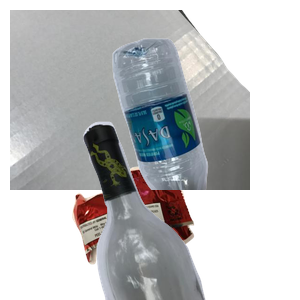cardboard: (10, 10, 250, 190)
glass: (81, 120, 300, 300)
plastic: (110, 36, 300, 216)
trash: (70, 162, 257, 300)
